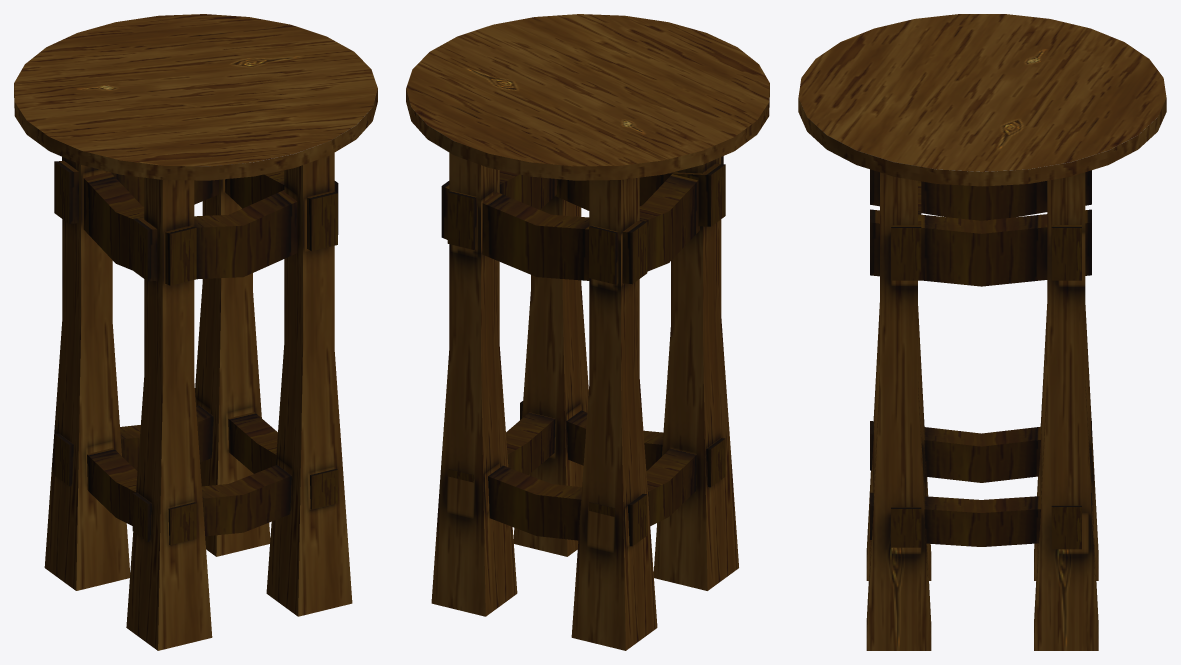
File: Stool.fbx
3 views of the same model, side by side, from view 1: azimuth 30°, elevation 25°; view 2: azimuth 150°, elevation 25°; view 3: azimuth 270°, elevation 25° (orthographic). The views are drawn at different scales.
Parts seen in each view (by area): view 1: taburete_UVSOPEN_pCube176; view 2: taburete_UVSOPEN_pCube176; view 3: taburete_UVSOPEN_pCube176.
Part boxes in pixels (box(x1,y1,x2,y2)): taburete_UVSOPEN_pCube176: box(14, 14, 377, 650); taburete_UVSOPEN_pCube176: box(406, 14, 769, 650); taburete_UVSOPEN_pCube176: box(798, 14, 1166, 650).
Size of the model in its own units: 1.18 by 1.77 by 1.16.
